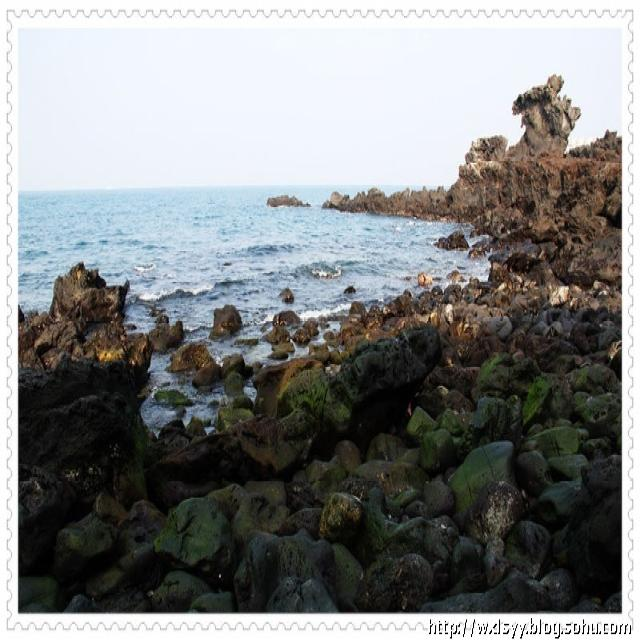reef: (69, 250, 338, 389), (291, 146, 533, 248)
